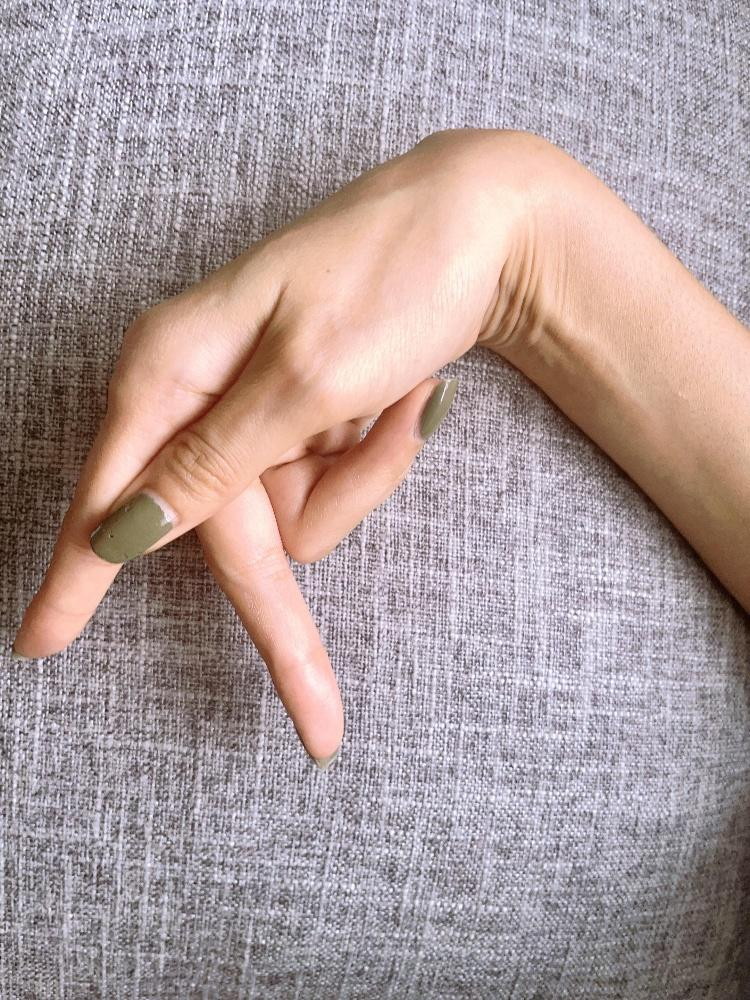p: (7, 124, 564, 772)
